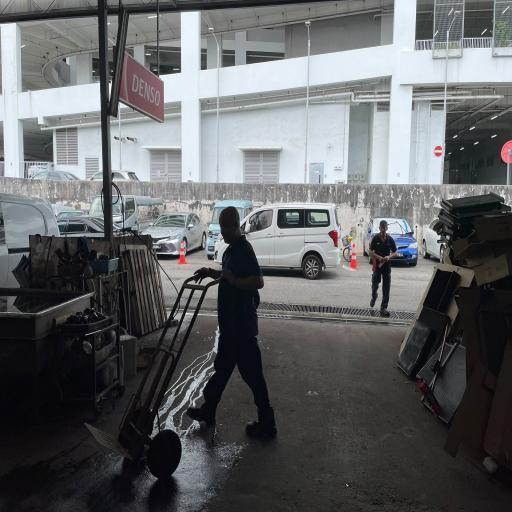person_left: (96, 206, 282, 494)
